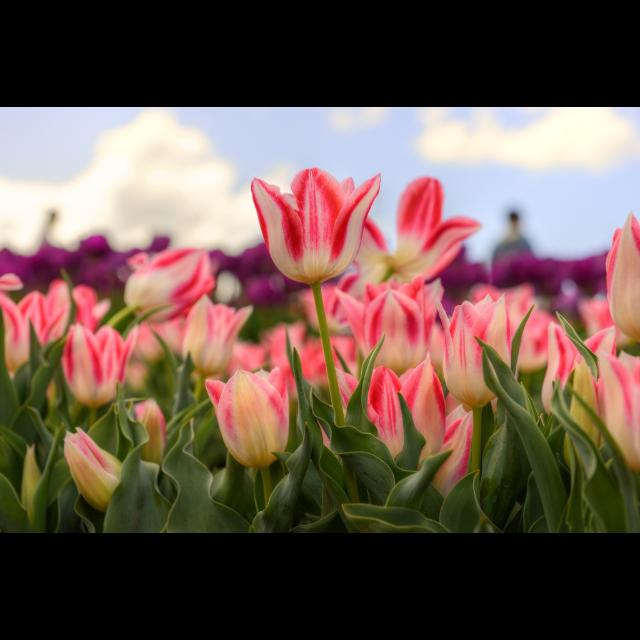Flower: (1, 176, 640, 498), (248, 166, 382, 286), (206, 370, 288, 470), (61, 427, 126, 511), (132, 398, 166, 466)
